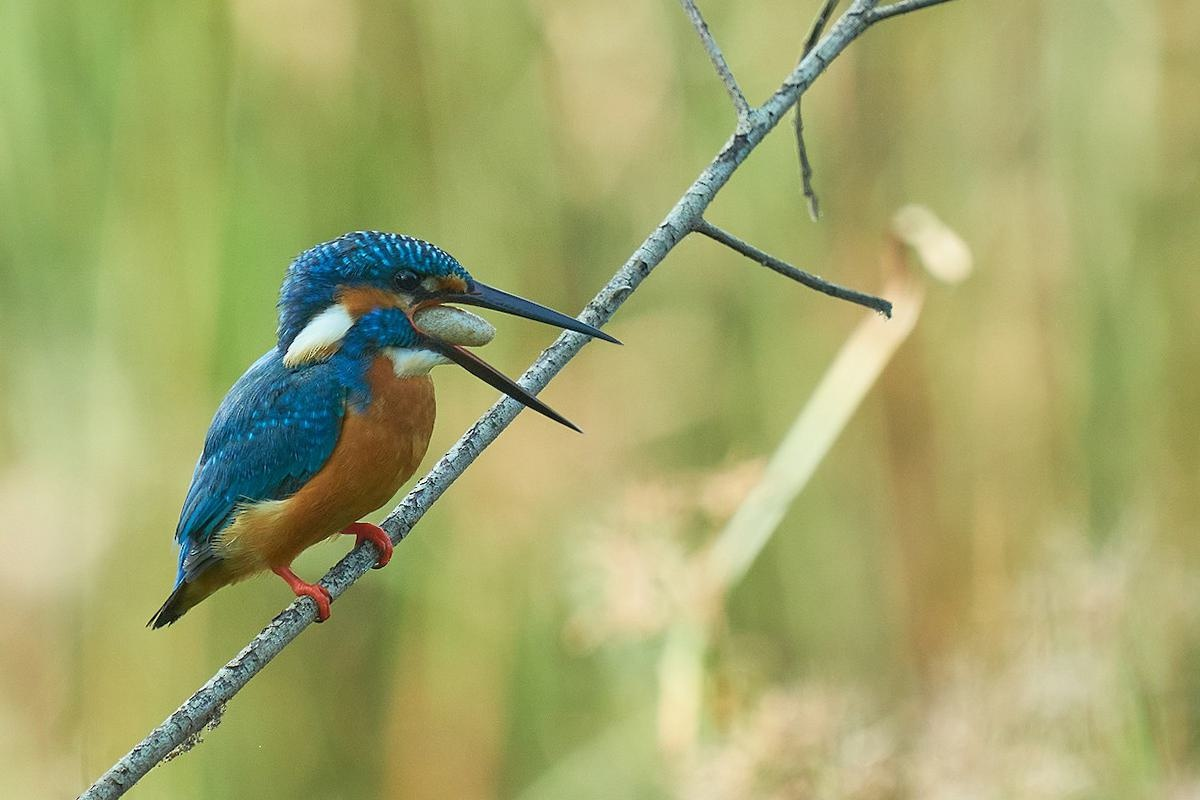kingfisher: (116, 204, 630, 637)
